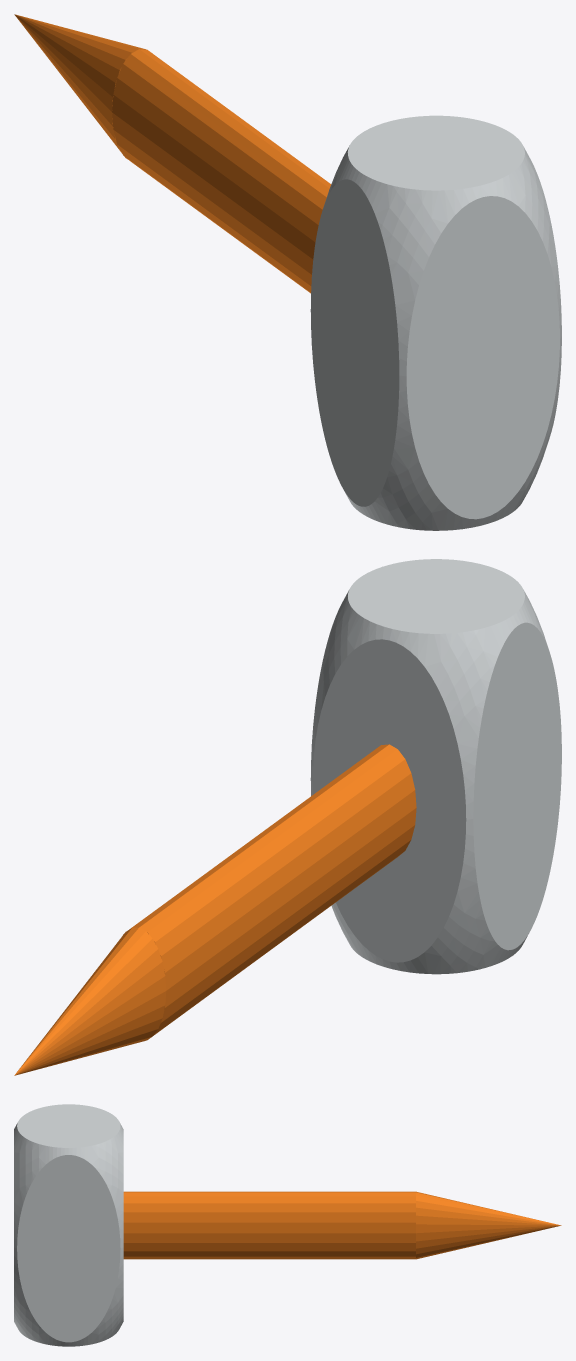
The model's file is tinker.obj.
3 renders of one model, top to bottom at view 1: azimuth 30°, elevation 25°; view 2: azimuth 150°, elevation 25°; view 3: azimuth 270°, elevation 25°, orthographic. The views are drawn at different scales.
Parts seen in each view (by area): view 1: group_0_14541540, group_0_16089887; view 2: group_0_14541540, group_0_16089887; view 3: group_0_14541540, group_0_16089887.
Part boxes in pixels (<box>): group_0_14541540: <box>310,115,561,530</box>; group_0_16089887: <box>14,14,331,293</box>; group_0_14541540: <box>310,559,561,974</box>; group_0_16089887: <box>14,744,416,1075</box>; group_0_14541540: <box>14,1104,123,1346</box>; group_0_16089887: <box>123,1191,561,1259</box>.
Bounding box in the file's own units: 3 × 6 × 15.
